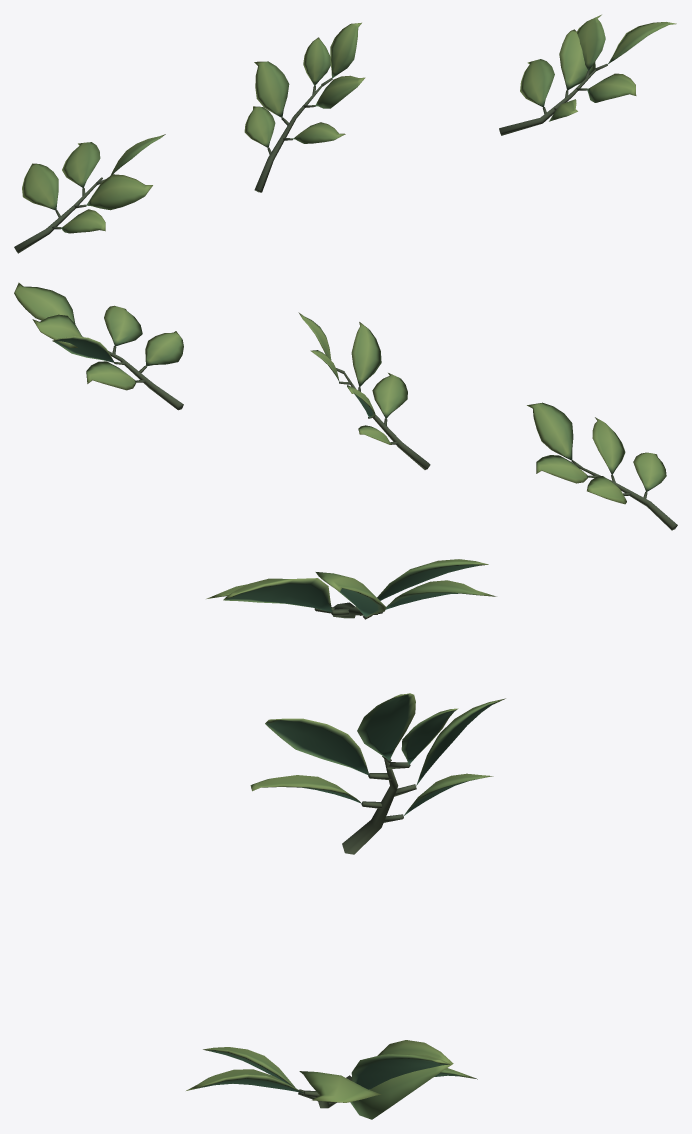
File: rail-leaf-sprays.glb
3 views of the same model, one above another, from view 1: azimuth 30°, elevation 25°; view 2: azimuth 150°, elevation 25°; view 3: azimuth 270°, elevation 25° (orthographic). The views are drawn at different scales.
Parts seen in each view (by area): view 1: spray-rising, spray-tipped, spray-spreading; view 2: spray-tipped, spray-spreading, spray-rising; view 3: spray-rising, spray-tipped, spray-spreading.
Boxes of the visible parts, x1,y1,x2,y2 form: spray-rising: (244,22,365,192); spray-tipped: (499,14,676,135); spray-spreading: (14,134,165,253); spray-tipped: (14,282,183,410); spray-spreading: (527,402,677,530); spray-rising: (298,312,430,469); spray-rising: (250,693,505,854); spray-tipped: (186,1040,477,1119); spray-spreading: (206,559,496,619).
Bounding box in the file's own units: 1.73 × 0.3411 × 0.3685.
